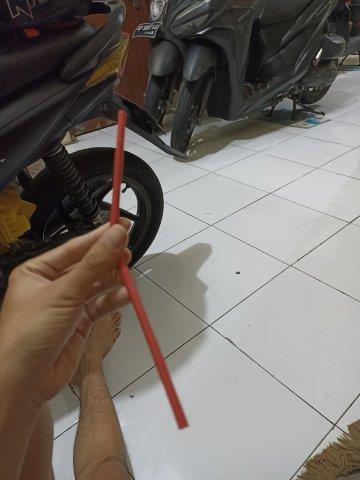sedotan: (110, 110, 187, 427)
